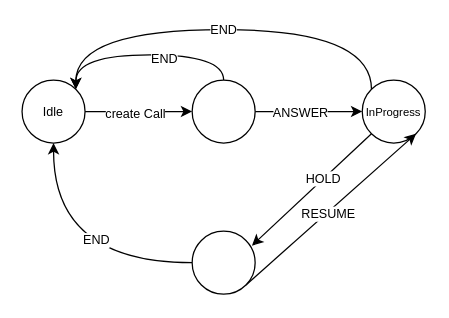
Some shapes in this 449 by 318 pixel diagram are drawn without their labels. Here are the shapes that lost their labels. From the top down, the centre of each, then its label:
the point at 223,111: Ringing
the point at 223,262: Paused
